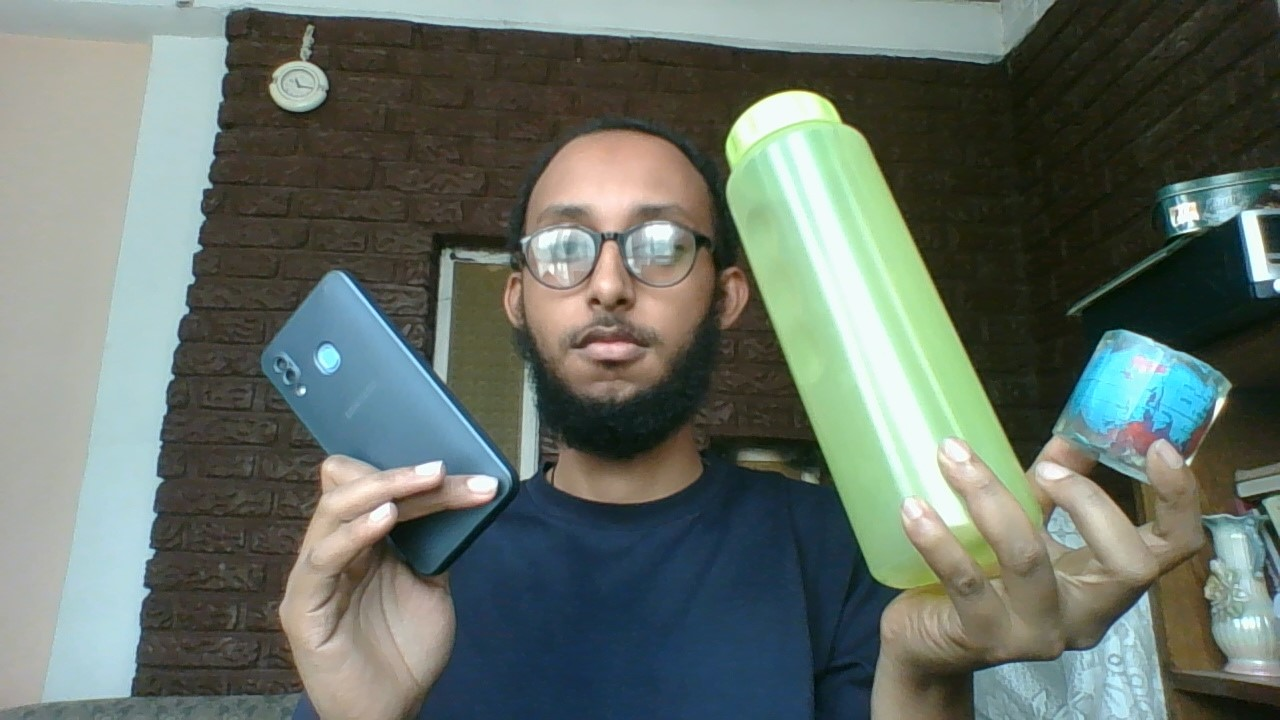Smart_phone: (254, 260, 524, 582)
Water_bottle: (719, 85, 1039, 596)
world_globe: (1046, 320, 1235, 490)
